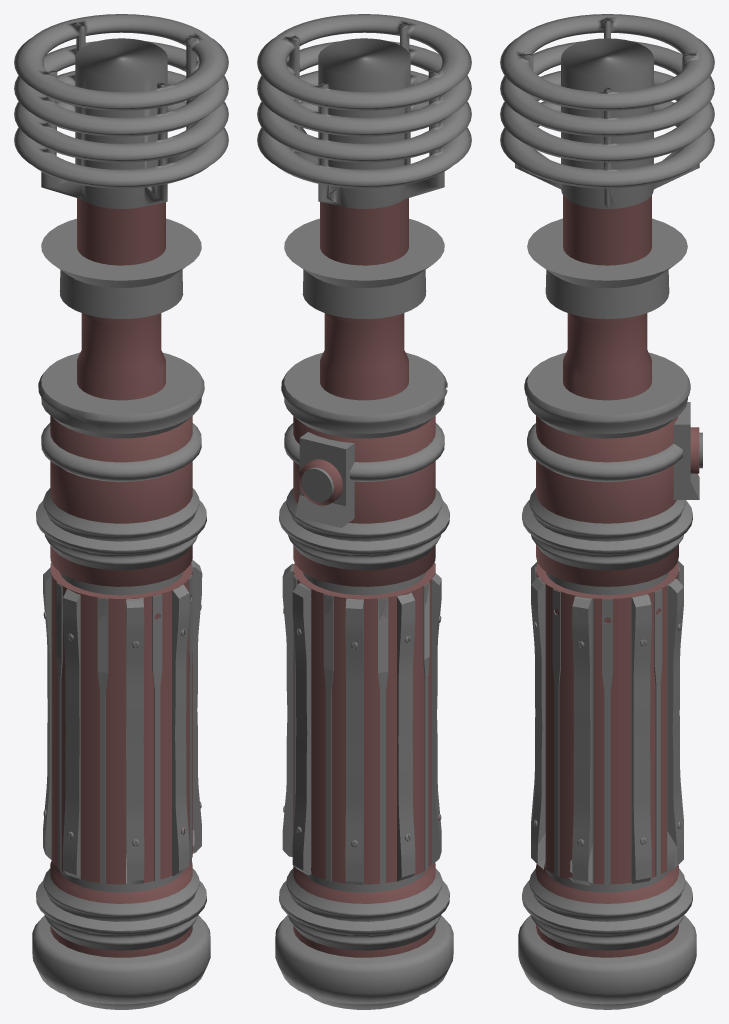
Rendered from light saber.fbx.
3 renders of one model, left to right at view 1: azimuth 30°, elevation 25°; view 2: azimuth 150°, elevation 25°; view 3: azimuth 270°, elevation 25°, orthographic.
Parts seen in each view (by area): view 1: Main center, Cylinder.008, Cylinder.002, Cylinder.001, Cylinder.012, Cylinder.003, Cylinder.005, Cylinder.011, Cylinder.004, Cylinder.010, Cube.009, Cube.012 (+5 smaller); view 2: Main center, Cylinder.008, Cylinder.001, Cylinder.012, Cylinder.002, Cylinder.003, Cylinder.011, Cylinder.005, Cube.004, Cylinder.010, Cylinder.004, Cube.009 (+7 smaller); view 3: Main center, Cylinder.008, Cylinder.002, Cylinder.001, Cylinder.012, Cylinder.003, Cylinder.011, Cylinder.005, Cylinder.004, Cylinder.010, Cube.011, Cube.012 (+5 smaller).
Boxes of the visible parts, box(x1,y1,x2,y2) form: Main center: box(14, 14, 228, 400); Cylinder.008: box(43, 560, 202, 884); Cylinder.002: box(50, 416, 192, 586); Cylinder.001: box(41, 218, 201, 319); Cylinder.012: box(32, 915, 210, 1004); Cylinder.003: box(38, 352, 204, 438); Cylinder.005: box(36, 488, 206, 570); Cylinder.011: box(36, 868, 206, 950); Cylinder.004: box(41, 423, 201, 481); Cylinder.010: box(50, 861, 192, 957); Cube.009: box(152, 594, 162, 881); Cube.012: box(97, 597, 108, 883); Main center: box(257, 14, 471, 400); Cylinder.008: box(282, 563, 441, 885); Cylinder.001: box(284, 218, 444, 319); Cylinder.012: box(275, 915, 453, 1004); Cylinder.002: box(293, 416, 435, 586); Cylinder.003: box(281, 352, 447, 438); Cylinder.011: box(279, 868, 449, 950); Cylinder.005: box(279, 488, 449, 570); Cube.004: box(295, 432, 354, 527); Cylinder.010: box(293, 863, 435, 957); Cylinder.004: box(284, 423, 444, 481); Cube.009: box(323, 594, 333, 881); Main center: box(500, 14, 714, 400); Cylinder.008: box(531, 560, 683, 885); Cylinder.002: box(536, 415, 678, 586); Cylinder.001: box(527, 218, 687, 319); Cylinder.012: box(518, 914, 696, 1004); Cylinder.003: box(524, 352, 690, 438); Cylinder.011: box(522, 868, 692, 950); Cylinder.005: box(522, 488, 692, 570); Cylinder.004: box(527, 423, 682, 481); Cylinder.010: box(536, 864, 678, 957); Cube.011: box(602, 599, 612, 884); Cube.012: box(654, 589, 662, 876).
Bounding box in the file's own units: 6.02 × 6.02 × 28.68.
